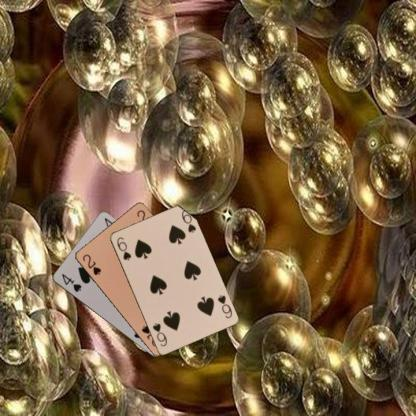2s: (80, 251, 102, 277)
4s: (59, 271, 83, 293)
6s: (214, 292, 233, 320), (114, 234, 132, 262)
